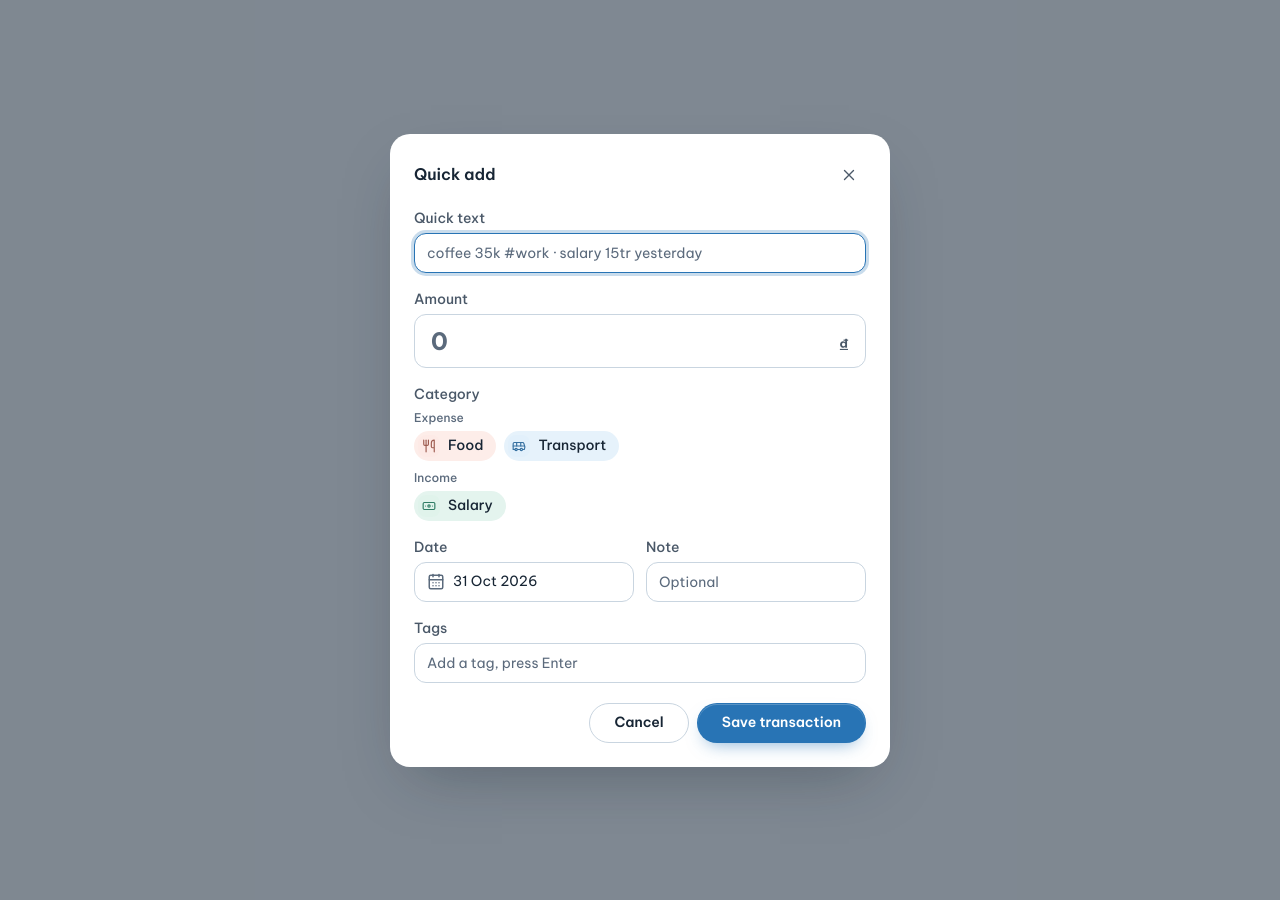
it: QuickAddDialog: the text line › says when no amount was found
The width and height of the screenshot is (1280, 900).
Expected: the button "Food" is shown, [414,430,496,460]
Type "just coffee" into the field labelled "Quick text".
click(640, 252); type("just coffee")  # box [414,232,866,272]
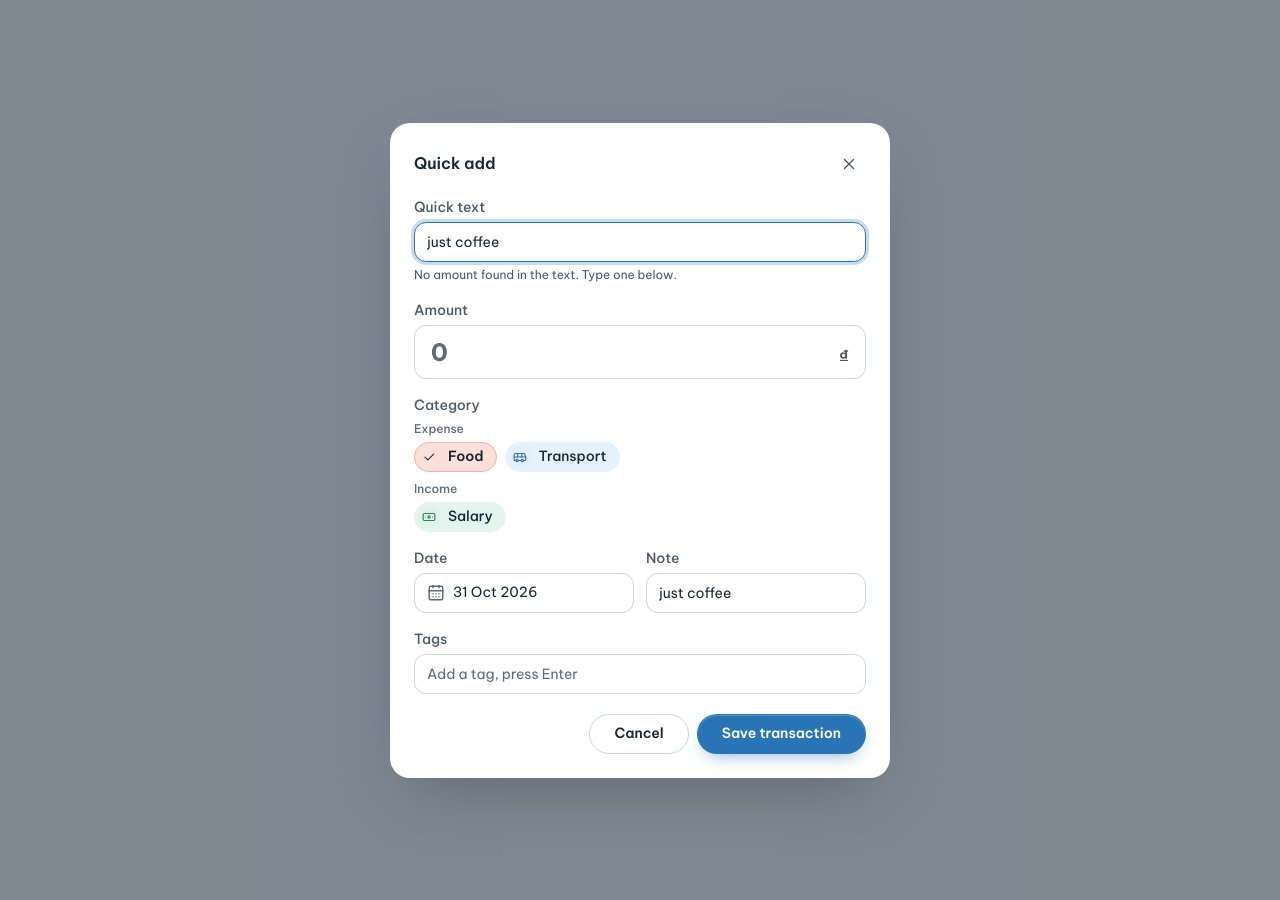
Expected: the text "No amount found in the text. Type one below." is shown, [414,266,677,282]
